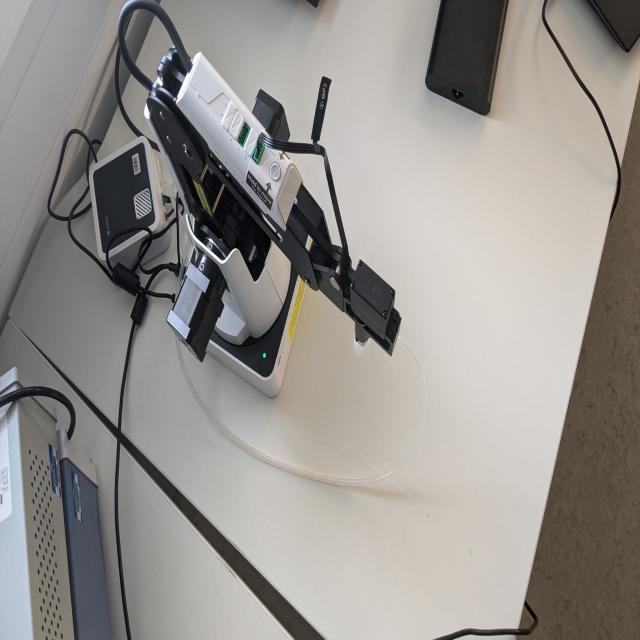Robot-end-effector-HF8z: (348, 256, 405, 365)
